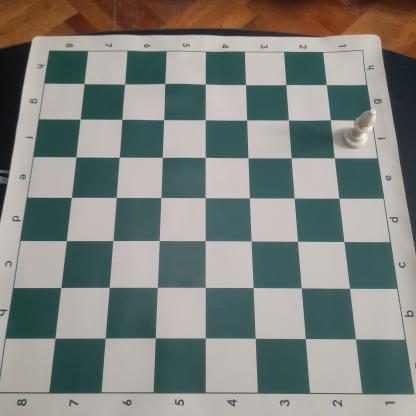white-bishop: (342, 108, 376, 149)
